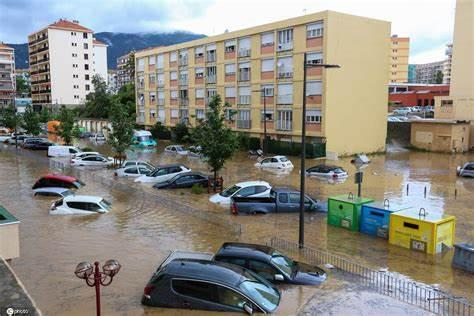water: (0, 144, 316, 315), (305, 211, 471, 301), (363, 145, 473, 246), (294, 269, 472, 315), (114, 175, 231, 217), (222, 149, 301, 188), (128, 144, 209, 175), (306, 174, 357, 200), (306, 154, 356, 177), (74, 138, 114, 155), (82, 166, 115, 181), (21, 148, 51, 161), (53, 156, 72, 165)
